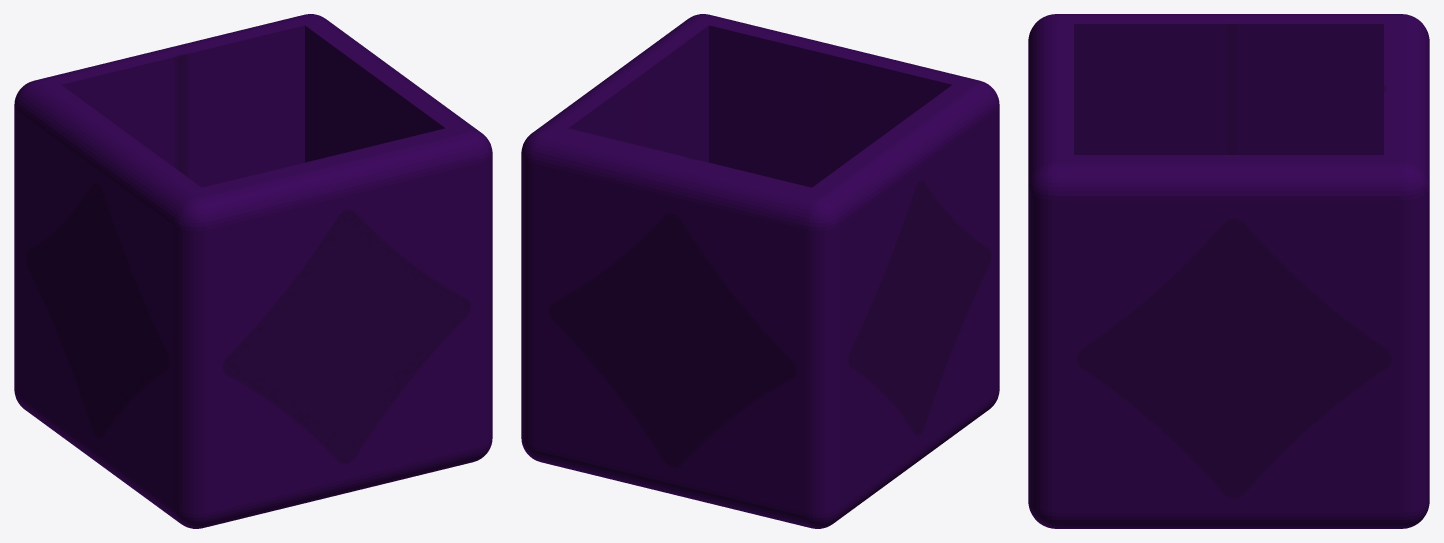
The model's file is cubeHell.fbx.
3 renders of one model, left to right at view 1: azimuth 30°, elevation 25°; view 2: azimuth 150°, elevation 25°; view 3: azimuth 270°, elevation 25°, orthographic. The views are drawn at different scales.
Parts seen in each view (by area): view 1: Cube; view 2: Cube; view 3: Cube.
Boxes of the visible parts, left/top/right/bottom form: Cube: left=14, top=14, right=492, bottom=528; Cube: left=521, top=14, right=999, bottom=528; Cube: left=1028, top=14, right=1429, bottom=528.
Bounding box in the file's own units: 400 × 400 × 400.
